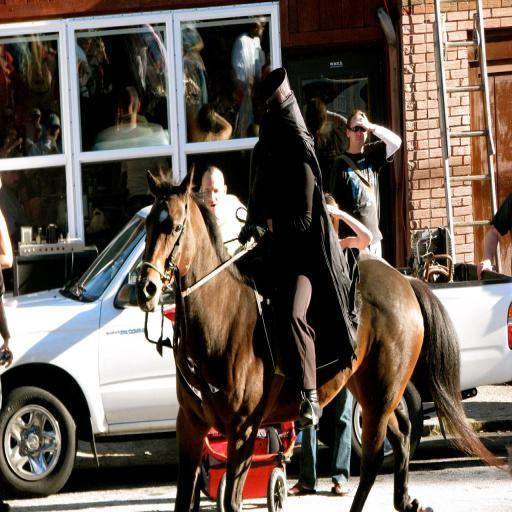Horse: (136, 166, 510, 511)
